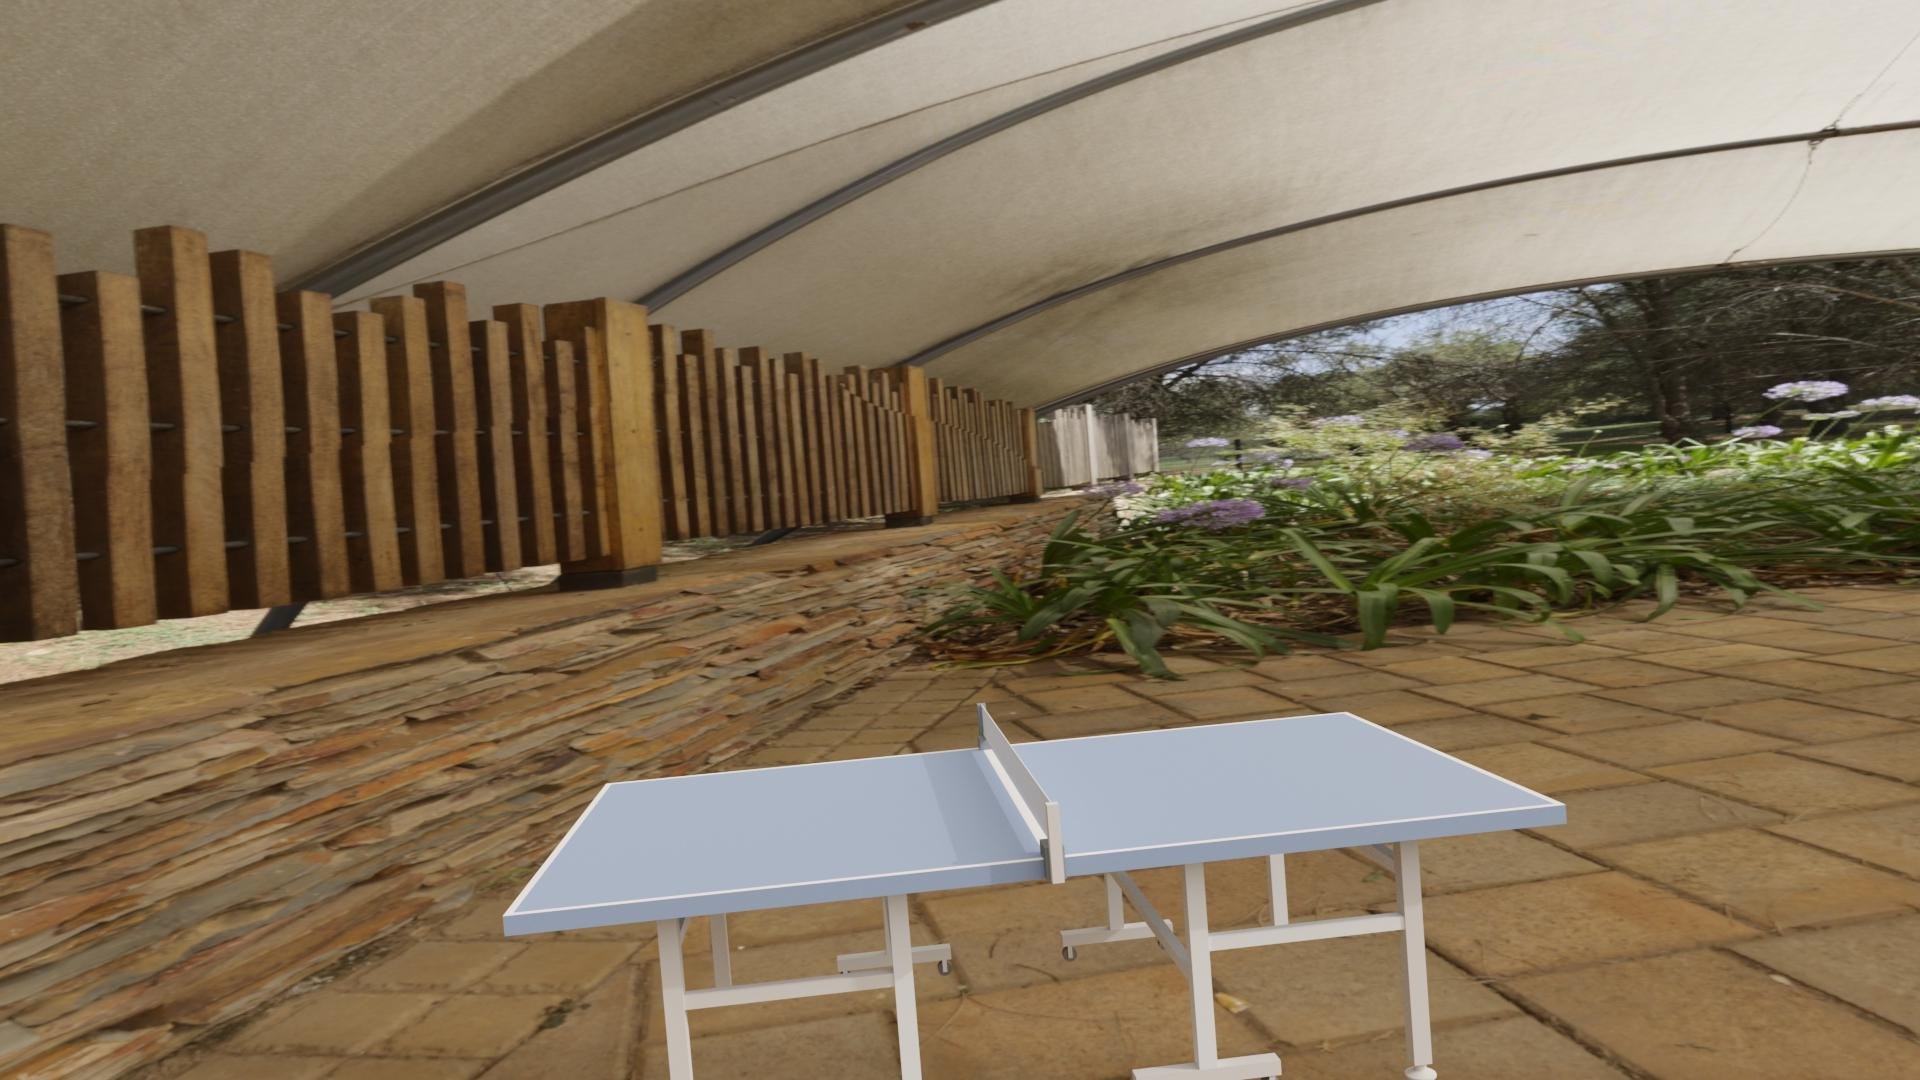table: (513, 713, 1555, 913)
